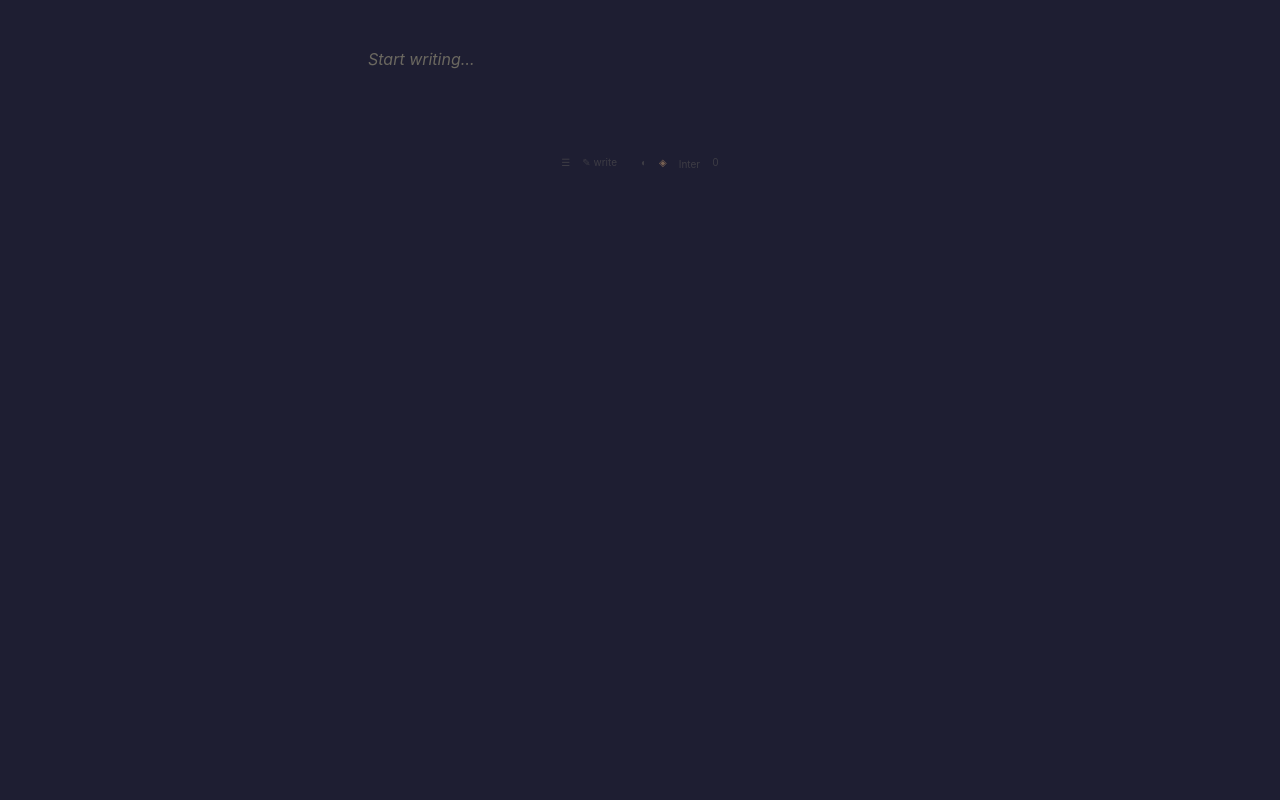
Test: Page › opens context tray when badge is clicked
Click the button with test id "context-badge" at (715, 162), box [712,154,719,170]
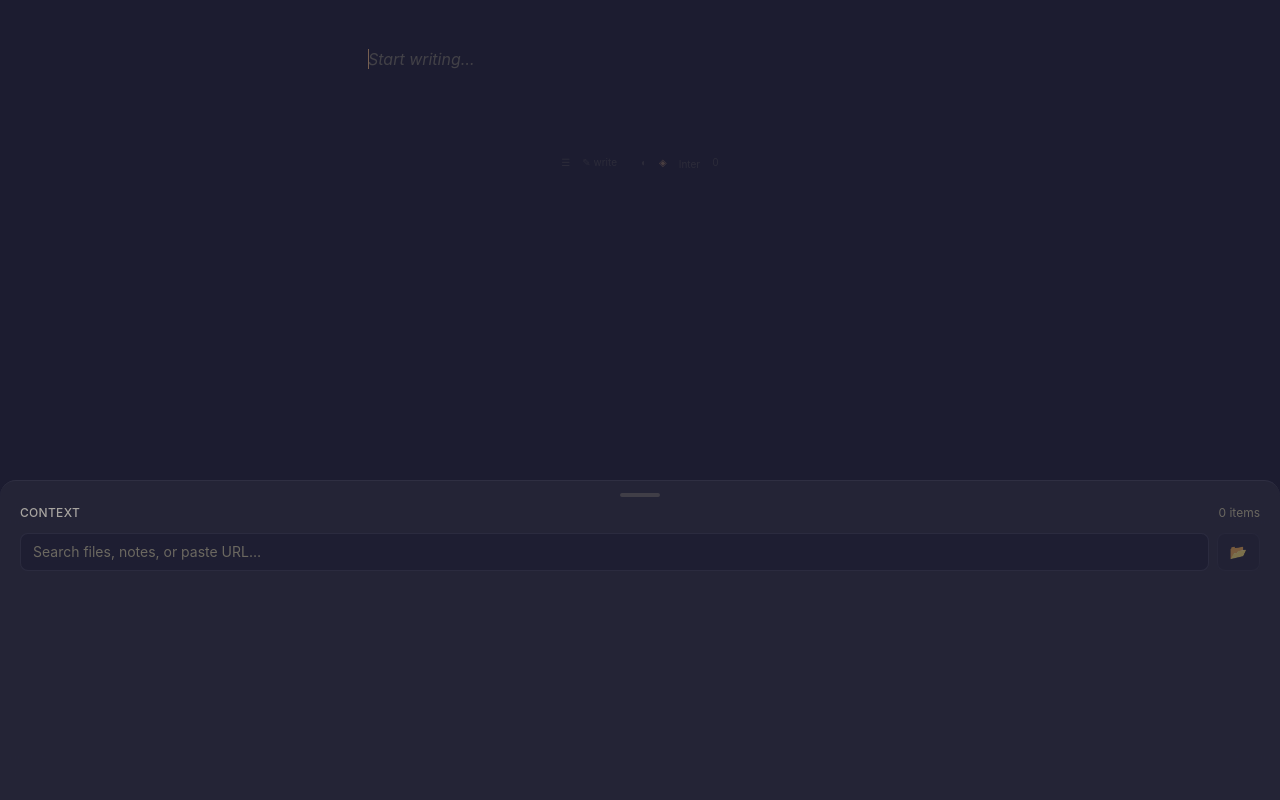
Check: the element with test id "context-tray-overlay" is shown
Check: the element with test id "context-tray-panel" is shown, box [0,480,1279,799]
